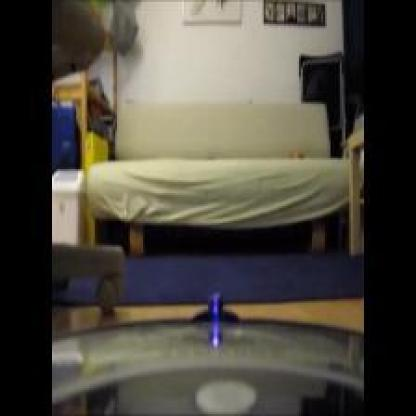other: (65, 120, 122, 236)
